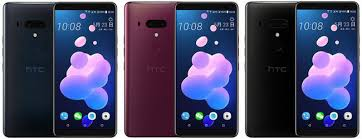htc: (51, 1, 119, 139), (173, 1, 241, 139), (293, 1, 361, 139), (124, 1, 178, 139), (243, 1, 297, 139), (1, 1, 53, 139)
